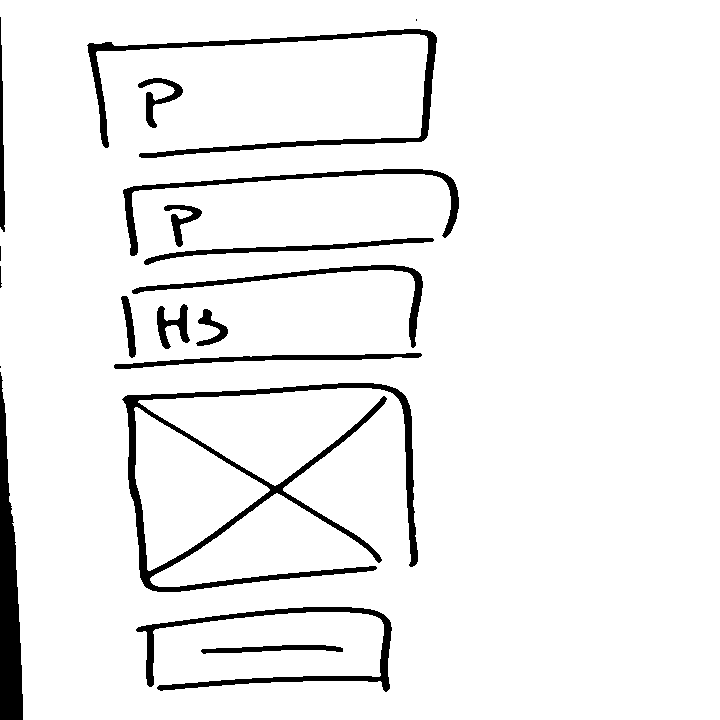button: (132, 603, 407, 702)
heading3: (102, 261, 448, 376)
paragraph: (80, 25, 443, 160), (91, 168, 468, 262)
picture: (118, 380, 440, 594)
